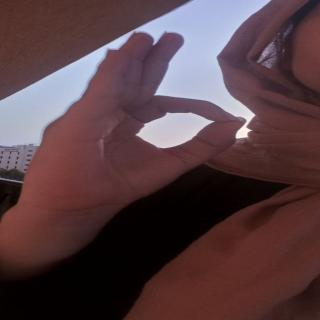Space: (28, 31, 254, 192)
